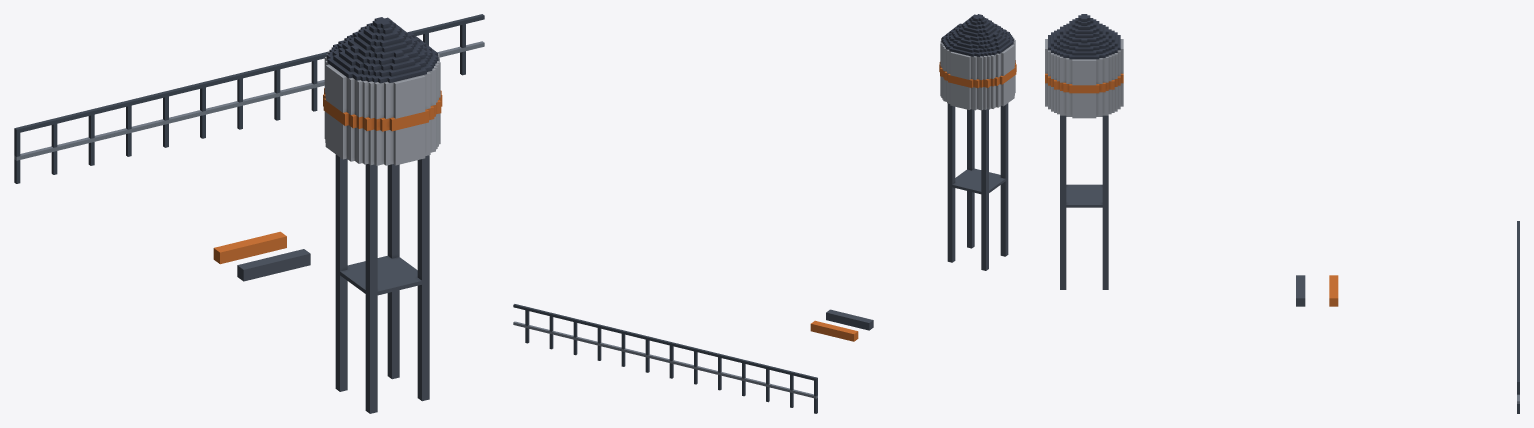
File: pad_e2_l2.glb
3 views of the same model, side by side, from view 1: azimuth 30°, elevation 25°; view 2: azimuth 150°, elevation 25°; view 3: azimuth 270°, elevation 25° (orthographic). The views are drawn at different scales.
Visible parts, largest first — view 1: Base; view 2: Base; view 3: Base.
Boxes of the visible parts, bbox=[...] form: Base: bbox=[14, 14, 484, 413]; Base: bbox=[513, 14, 1016, 413]; Base: bbox=[1045, 14, 1519, 413].
Bounding box in the file's own units: 12.6 × 9.6 × 15.7.
